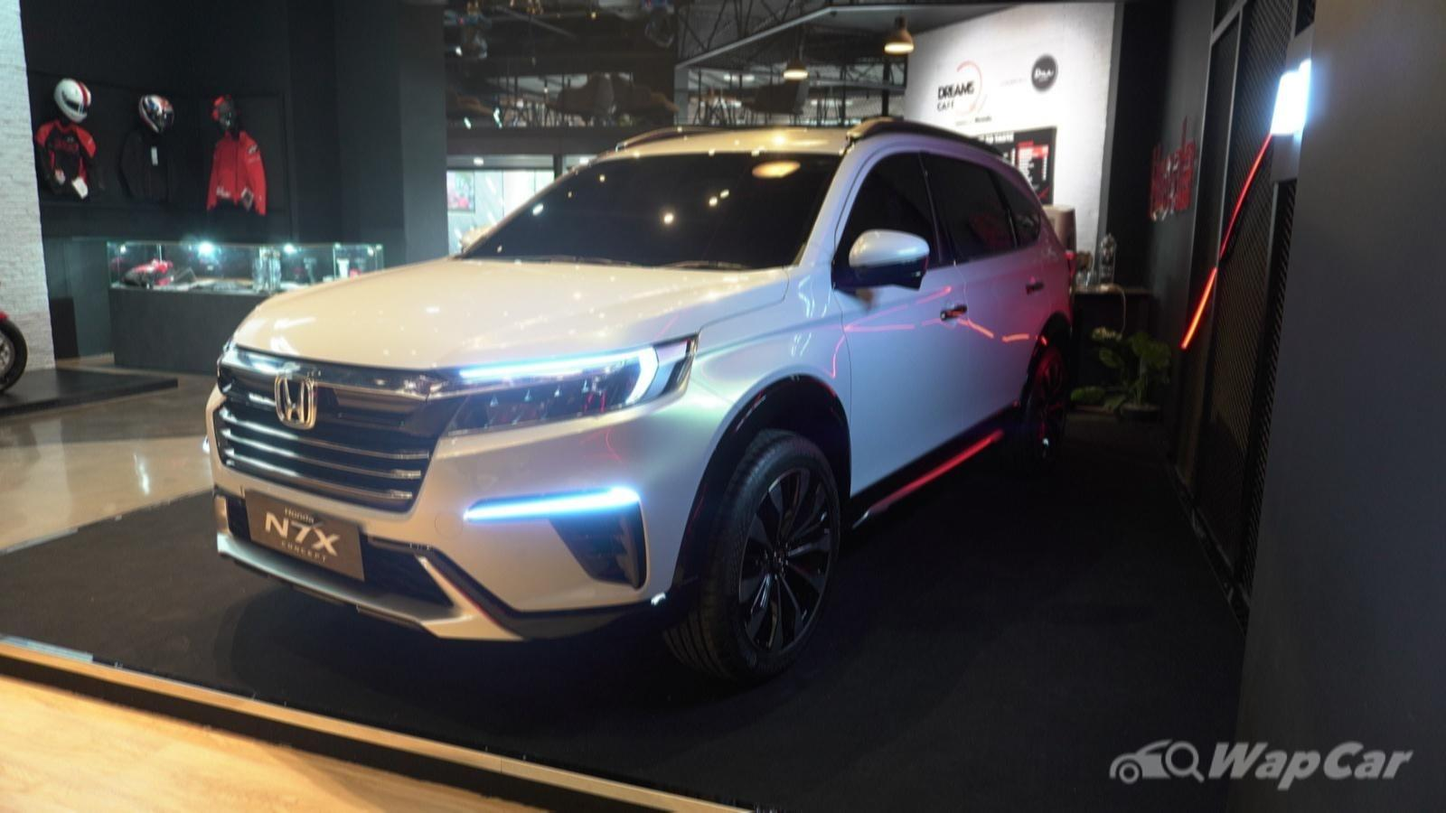Car hood: (224, 249, 792, 378)
Fender - -F-L-: (689, 269, 866, 542)
Front bumper: (188, 411, 744, 676)
Headlight - -L-: (414, 323, 708, 444)
Passenger-s door - -F-L-: (836, 124, 977, 499)
Passenger-s door - -R-L-: (964, 148, 1067, 436)
Side bumper - -L-: (838, 395, 1040, 549)
Side mirror - -L-: (825, 217, 940, 308)
